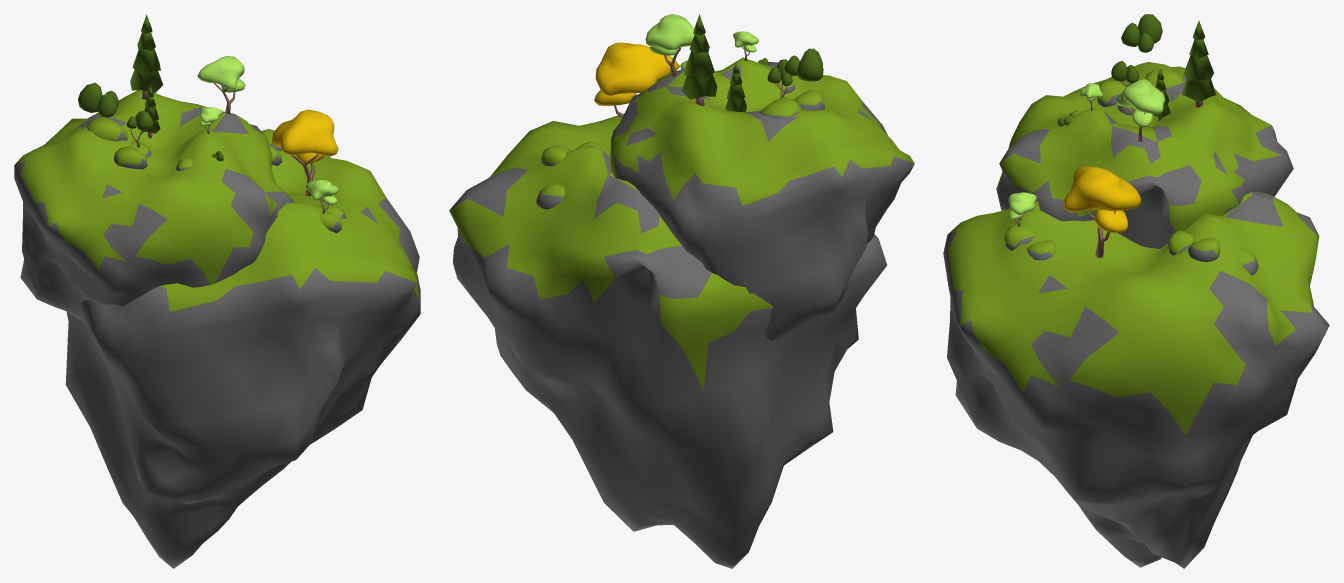
File: flying island 2.fbx
3 renders of one model, left to right at view 1: azimuth 30°, elevation 25°; view 2: azimuth 150°, elevation 25°; view 3: azimuth 270°, elevation 25°, orthographic. The views are drawn at different scales.
Visible parts, largest first — view 1: Icosphere.011, Icosphere.002, Icosphere.012, Cone.003, Icosphere.001, Icosphere.006, Icosphere.009, Icosphere.003, Icosphere.013; view 2: Icosphere.011, Icosphere.002, Icosphere.012, Cone.003, Icosphere.001, Icosphere.006, Cone.001, Icosphere.009; view 3: Icosphere.011, Icosphere.002, Icosphere.012, Cone.003, Icosphere.001, Icosphere.006, Icosphere.018, Icosphere.013, Icosphere.022, Icosphere.003, Icosphere.009.
Part boxes in pixels (box(x1,y1,x2,y2)): Icosphere.011: box(65, 143, 420, 568); Icosphere.002: box(14, 90, 294, 321); Icosphere.012: box(271, 109, 338, 163); Cone.003: box(130, 14, 162, 92); Icosphere.001: box(197, 56, 245, 92); Icosphere.006: box(78, 82, 118, 117); Icosphere.009: box(86, 117, 127, 141); Icosphere.003: box(114, 146, 147, 169); Icosphere.013: box(305, 180, 338, 204); Icosphere.011: box(449, 113, 887, 568); Icosphere.002: box(610, 57, 914, 341); Icosphere.012: box(594, 42, 680, 105); Cone.003: box(681, 14, 717, 99); Icosphere.001: box(645, 14, 694, 55); Icosphere.006: box(784, 48, 823, 81); Cone.001: box(725, 62, 746, 112); Icosphere.009: box(760, 96, 801, 119); Icosphere.011: box(943, 191, 1329, 568); Icosphere.002: box(996, 62, 1293, 248); Icosphere.012: box(1063, 166, 1140, 232); Cone.003: box(1181, 21, 1216, 102); Icosphere.001: box(1116, 79, 1165, 127); Icosphere.006: box(1121, 14, 1162, 52); Icosphere.018: box(1188, 237, 1220, 261); Icosphere.013: box(1008, 192, 1037, 220); Icosphere.022: box(1004, 224, 1034, 250); Icosphere.003: box(1097, 80, 1125, 106); Icosphere.009: box(1145, 68, 1183, 91).
Size of the model in its own units: 2309 by 3273 by 2089.
